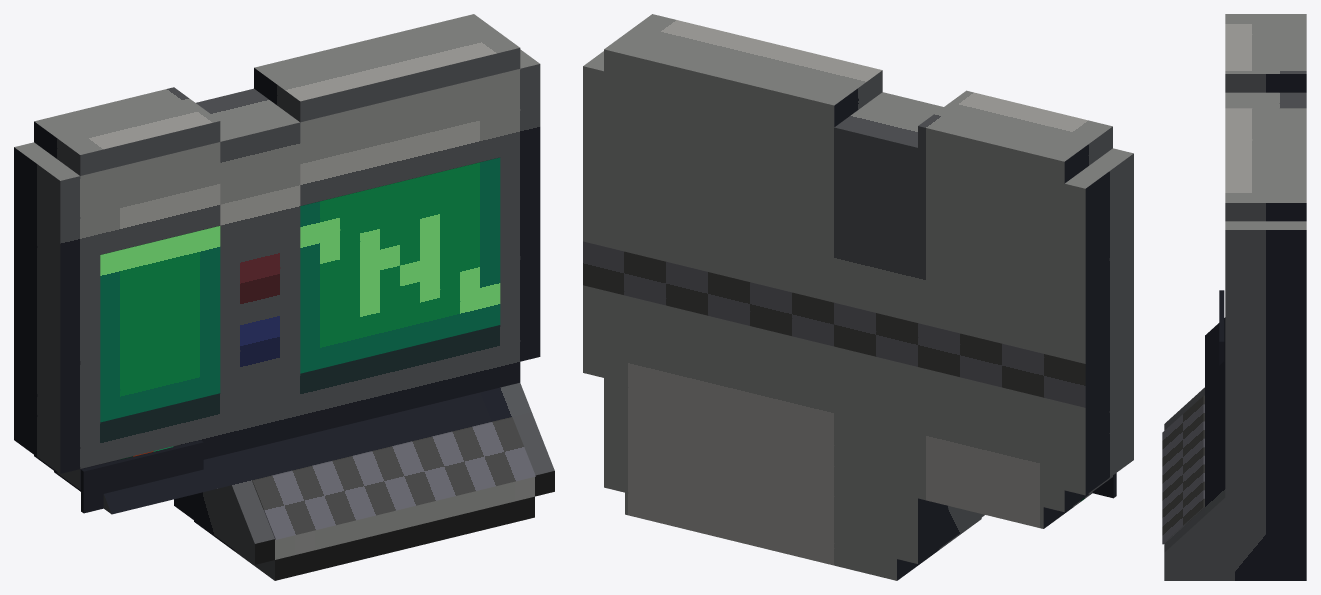
The model's file is requests_console_normal.glb.
The picture shows the model from 3 angles, left to right: view 1: azimuth 30°, elevation 25°; view 2: azimuth 150°, elevation 25°; view 3: azimuth 270°, elevation 25°; orthographic projection. The views are drawn at different scales.
Parts seen in each view (by area): view 1: Continuous_Housing, Message_Overlay, Status_Overlay, Keyboard_Panel, Service_Panel; view 2: Continuous_Housing; view 3: Continuous_Housing, Keyboard_Panel, Service_Panel.
Part boxes in pixels (x1,y1,x2,y2): Continuous_Housing: [14, 14, 554, 580]; Message_Overlay: [300, 157, 500, 373]; Status_Overlay: [100, 226, 220, 422]; Keyboard_Panel: [252, 417, 535, 539]; Service_Panel: [81, 440, 203, 513]; Continuous_Housing: [583, 14, 1133, 580]; Continuous_Housing: [1164, 14, 1306, 580]; Keyboard_Panel: [1162, 395, 1204, 544]; Service_Panel: [1219, 290, 1224, 364].
Bounding box in the file's own units: 0.675 × 0.5906 × 0.1996.
Materials: 3 (3 with a texture image).
